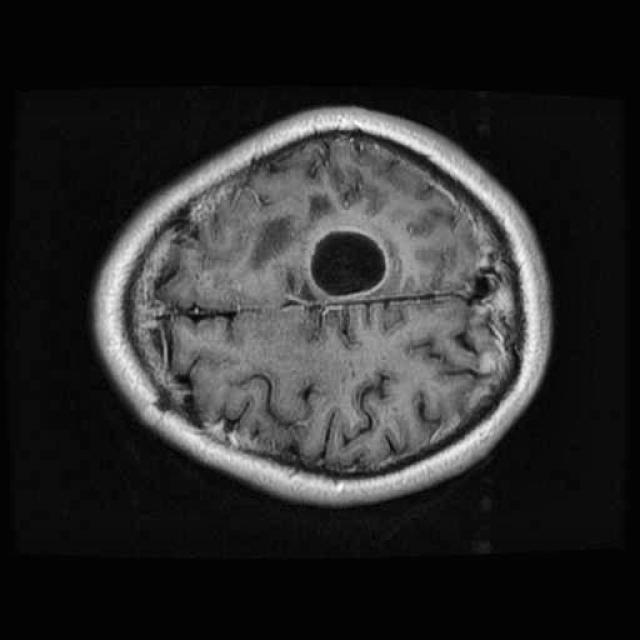Tumor: (295, 218, 395, 310)
